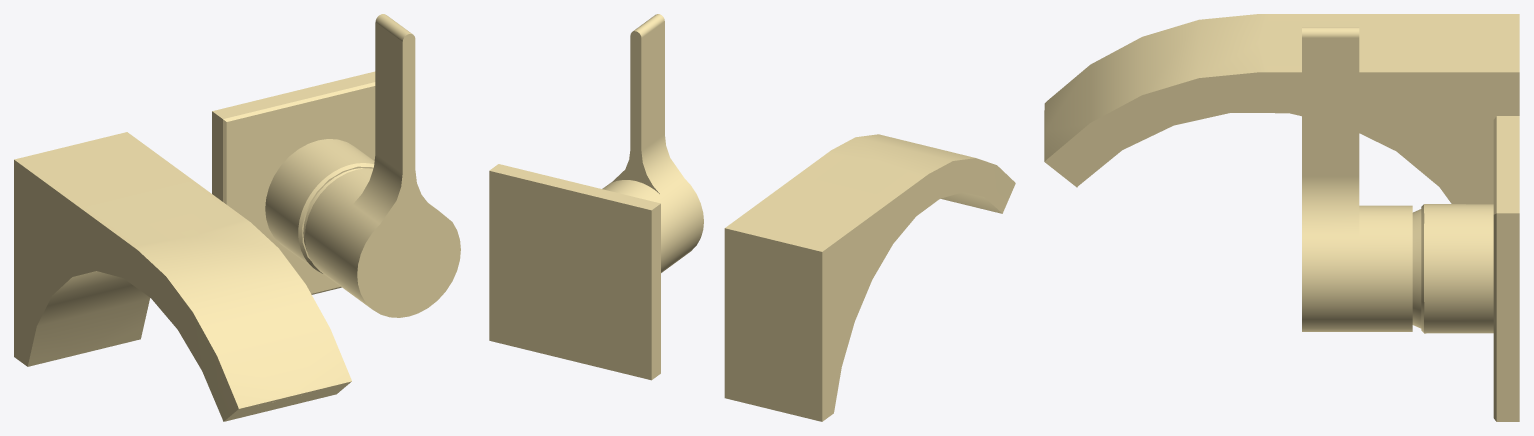
The picture shows the model from 3 angles, left to right: view 1: azimuth 30°, elevation 25°; view 2: azimuth 150°, elevation 25°; view 3: azimuth 270°, elevation 25°; orthographic projection. The views are drawn at different scales.
Visible parts, largest first — view 1: L_89ed23ff_7257_4f8e_8448_b50cb2aa9b0f_I3, L_928a727d_b490_44d4_9528_7d3cccf2d2c7_I4, L_e762c9f9_117b_4ea6_9dad_26d7e7ed9bc8_I6, L_c2266ba6_3cfb_489b_acec_95be93e11fa8_I5, L_02e41cbb_ec39_4ad6_bd15_9f65e2306764_I1; view 2: L_89ed23ff_7257_4f8e_8448_b50cb2aa9b0f_I3, L_e762c9f9_117b_4ea6_9dad_26d7e7ed9bc8_I6, L_928a727d_b490_44d4_9528_7d3cccf2d2c7_I4; view 3: L_89ed23ff_7257_4f8e_8448_b50cb2aa9b0f_I3, L_928a727d_b490_44d4_9528_7d3cccf2d2c7_I4, L_c2266ba6_3cfb_489b_acec_95be93e11fa8_I5, L_e762c9f9_117b_4ea6_9dad_26d7e7ed9bc8_I6, L_39e64315_0de5_4fbe_98ba_65e3bbbd578a_I2.
Part boxes in pixels (x1=…): L_89ed23ff_7257_4f8e_8448_b50cb2aa9b0f_I3: x1=14, y1=132, x2=351, y2=421; L_928a727d_b490_44d4_9528_7d3cccf2d2c7_I4: x1=305, y1=14, x2=460, y2=317; L_e762c9f9_117b_4ea6_9dad_26d7e7ed9bc8_I6: x1=212, y1=71, x2=375, y2=294; L_c2266ba6_3cfb_489b_acec_95be93e11fa8_I5: x1=265, y1=139, x2=374, y2=273; L_02e41cbb_ec39_4ad6_bd15_9f65e2306764_I1: x1=232, y1=385, x2=343, y2=417; L_89ed23ff_7257_4f8e_8448_b50cb2aa9b0f_I3: x1=724, y1=134, x2=1015, y2=421; L_e762c9f9_117b_4ea6_9dad_26d7e7ed9bc8_I6: x1=489, y1=164, x2=660, y2=380; L_928a727d_b490_44d4_9528_7d3cccf2d2c7_I4: x1=602, y1=14, x2=703, y2=272; L_89ed23ff_7257_4f8e_8448_b50cb2aa9b0f_I3: x1=1044, y1=14, x2=1519, y2=204; L_928a727d_b490_44d4_9528_7d3cccf2d2c7_I4: x1=1302, y1=27, x2=1412, y2=331; L_c2266ba6_3cfb_489b_acec_95be93e11fa8_I5: x1=1421, y1=204, x2=1493, y2=333; L_e762c9f9_117b_4ea6_9dad_26d7e7ed9bc8_I6: x1=1493, y1=116, x2=1519, y2=421; L_39e64315_0de5_4fbe_98ba_65e3bbbd578a_I2: x1=1412, y1=209, x2=1421, y2=328.
Bounding box in the file's own units: 0.164 × 0.1325 × 0.1651.
